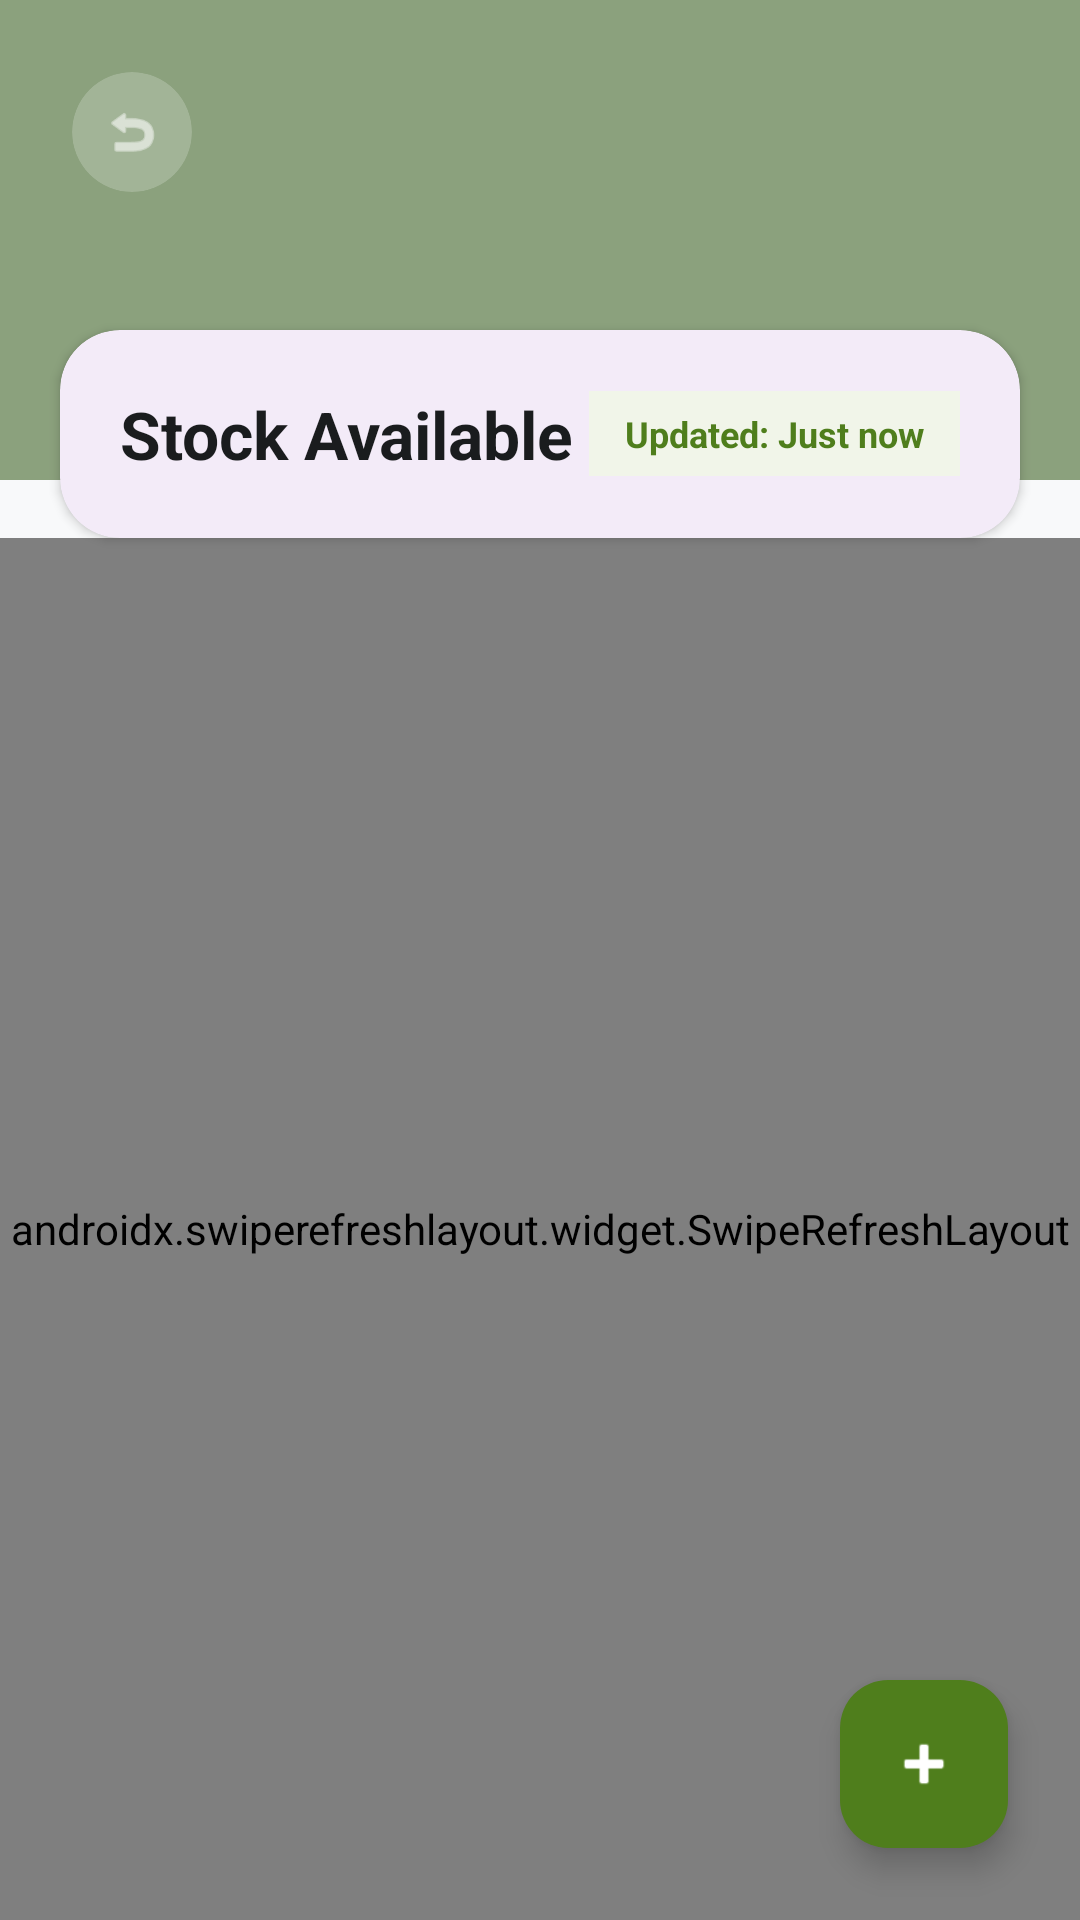

Locate icon controls on the screen. Image size 1080w x 1920h, boxes as bbox=[x1, y1, x2, y2].
add: bbox=[840, 1680, 1008, 1848]
revert: bbox=[73, 72, 191, 192]
